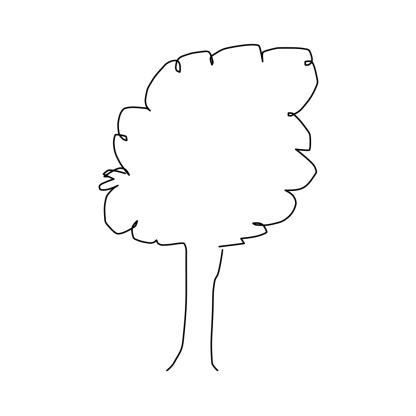crown_cloud: (98, 43, 318, 247)
trunk_straight: (174, 267, 222, 359)
